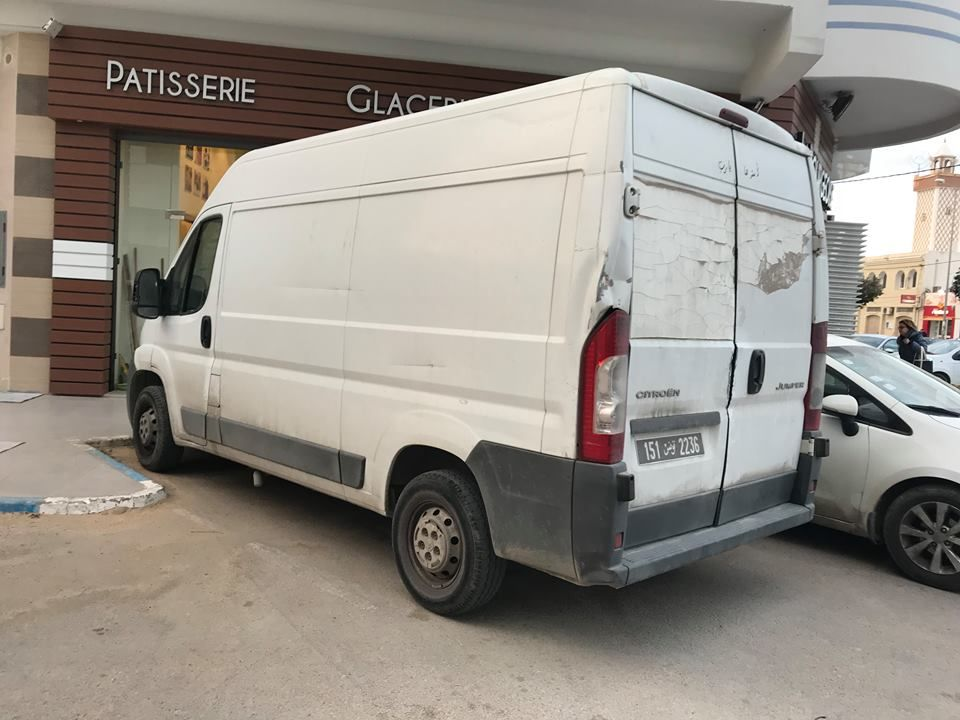LP: (632, 431, 706, 465)
